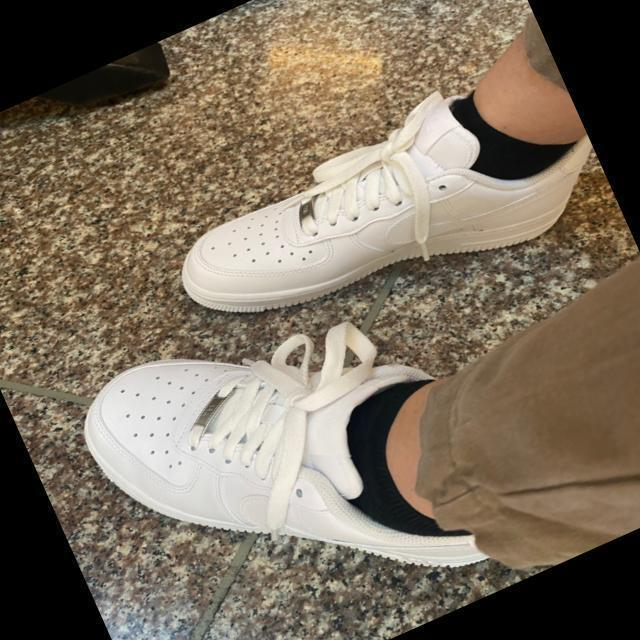nike original air force: (53, 247, 530, 640), (150, 42, 617, 380)
